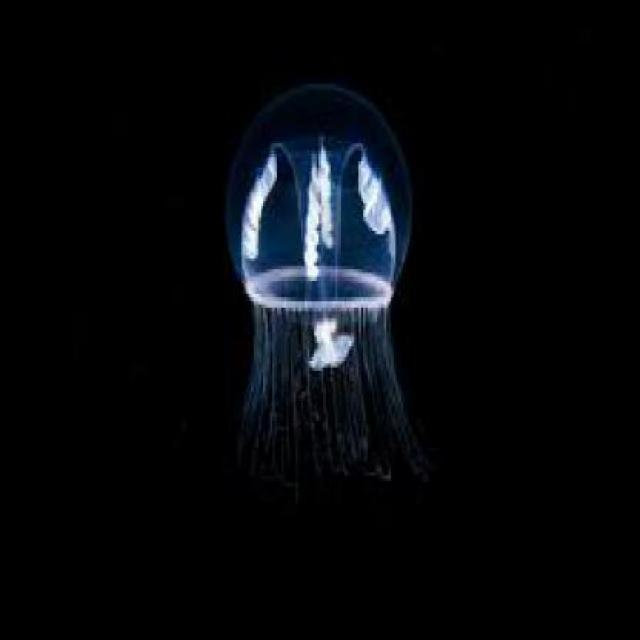Jellyfish: (217, 77, 431, 497)
